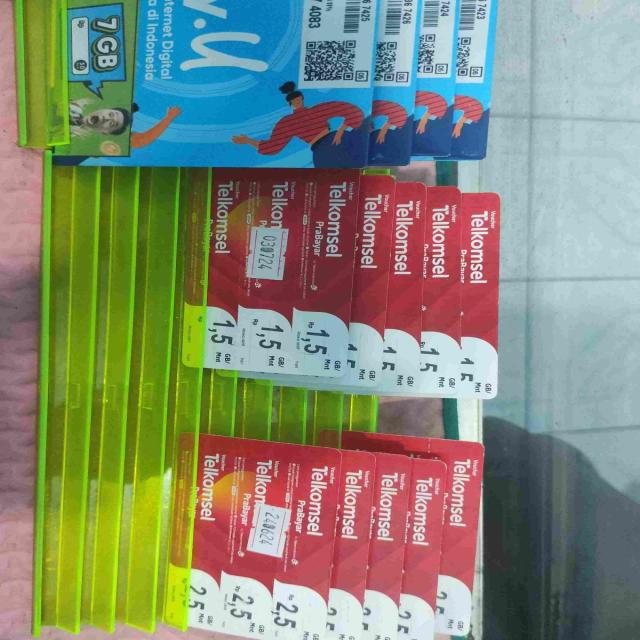Axis: (141, 0, 369, 168), (374, 0, 417, 165), (455, 1, 494, 158), (422, 0, 451, 161)
Telkomsel: (186, 171, 350, 376), (180, 434, 308, 637), (434, 442, 484, 635), (385, 454, 437, 637), (341, 448, 386, 638), (428, 181, 465, 383), (304, 445, 342, 640), (388, 173, 423, 382), (469, 193, 503, 391), (354, 170, 382, 380)
